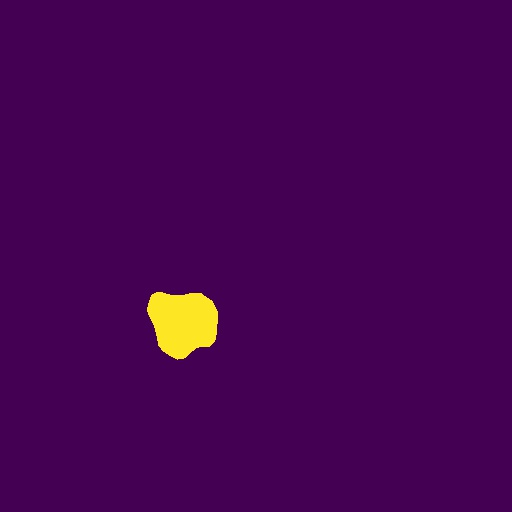Menigiomia_tumour: (147, 292, 218, 360)
